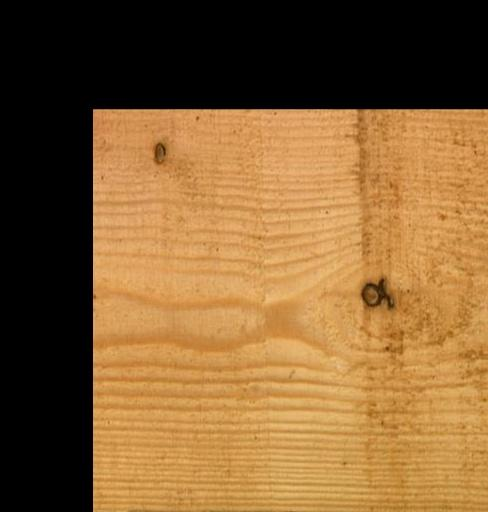dry_knot: (152, 140, 167, 166)
